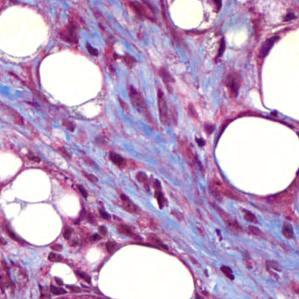steatosis: (210, 117, 299, 196), (35, 46, 109, 113)
